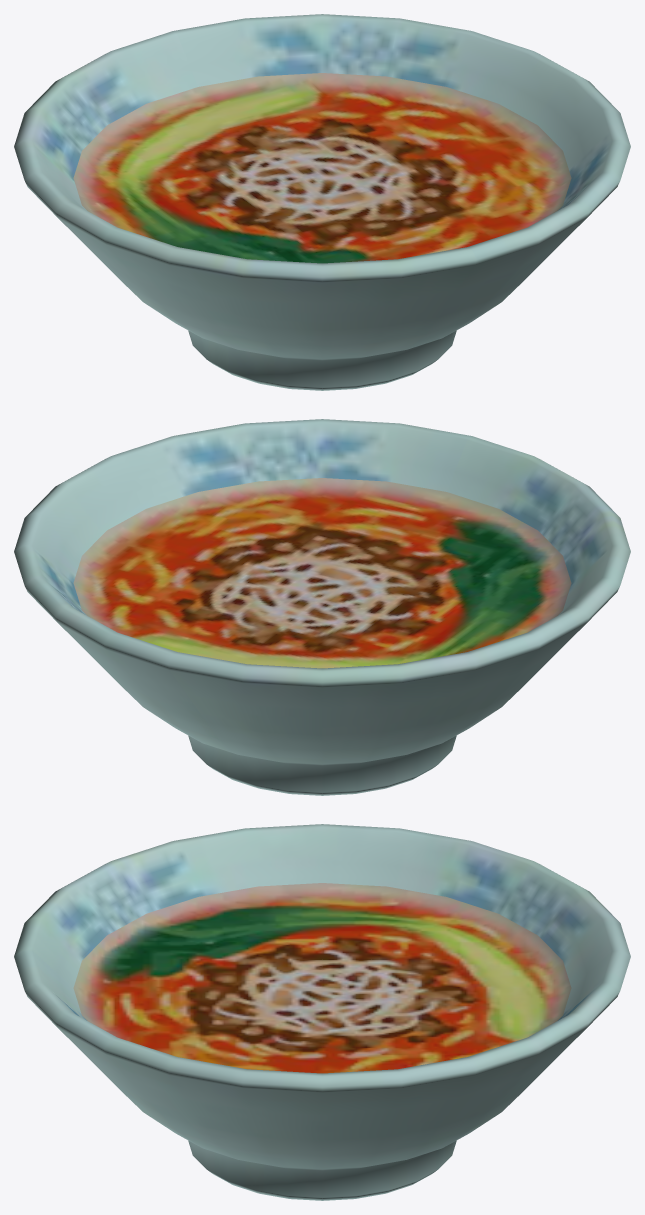
The picture shows the model from 3 angles, top to bottom: view 1: azimuth 30°, elevation 25°; view 2: azimuth 150°, elevation 25°; view 3: azimuth 270°, elevation 25°; orthographic projection.
Bounding box in the file's own units: 7.64 × 2.69 × 7.64.
Materials: 1 (1 with a texture image).
